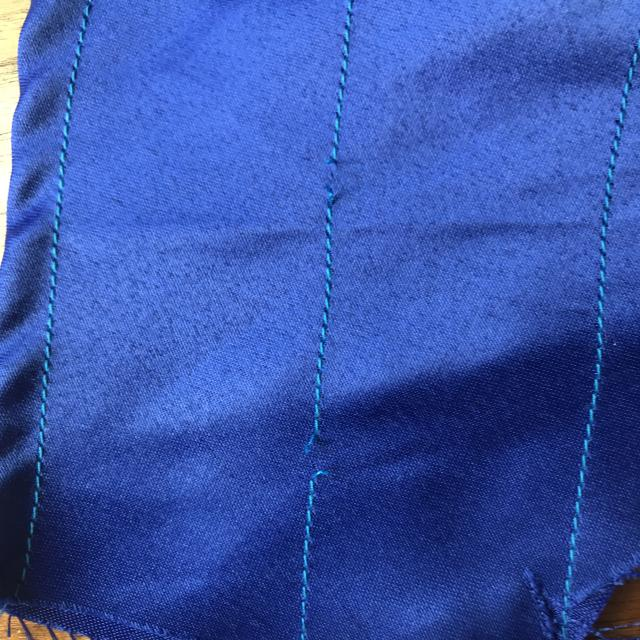broken: (300, 135, 373, 227), (298, 412, 358, 492)
good: (307, 268, 371, 347)
